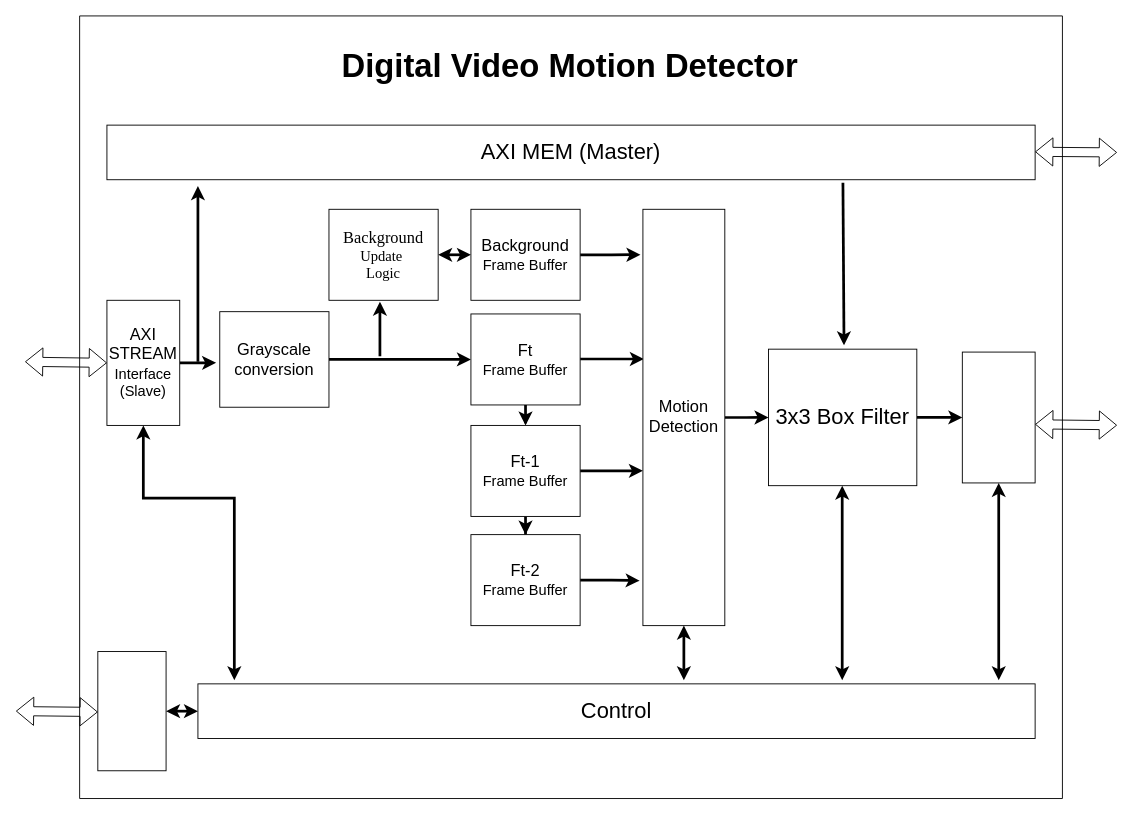
The diagram is 1132 pixels wide and 814 high, and some of its shapes have lost their labels. The shapes that lost their labels are listed below. From the top down, each one's box as (x1, y1, x2, y2) in pixels, then its label:
(961, 351, 1035, 483): AXI STREAM Interface (Master)
(97, 651, 166, 771): AXI LITE Interface (Slave)
